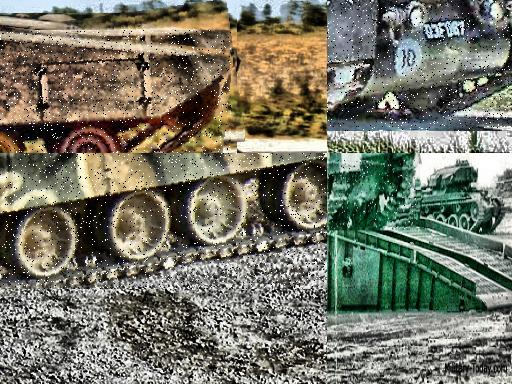tanks: (1, 154, 328, 290), (1, 31, 232, 154), (328, 1, 512, 115), (397, 161, 506, 234), (328, 161, 417, 230)
